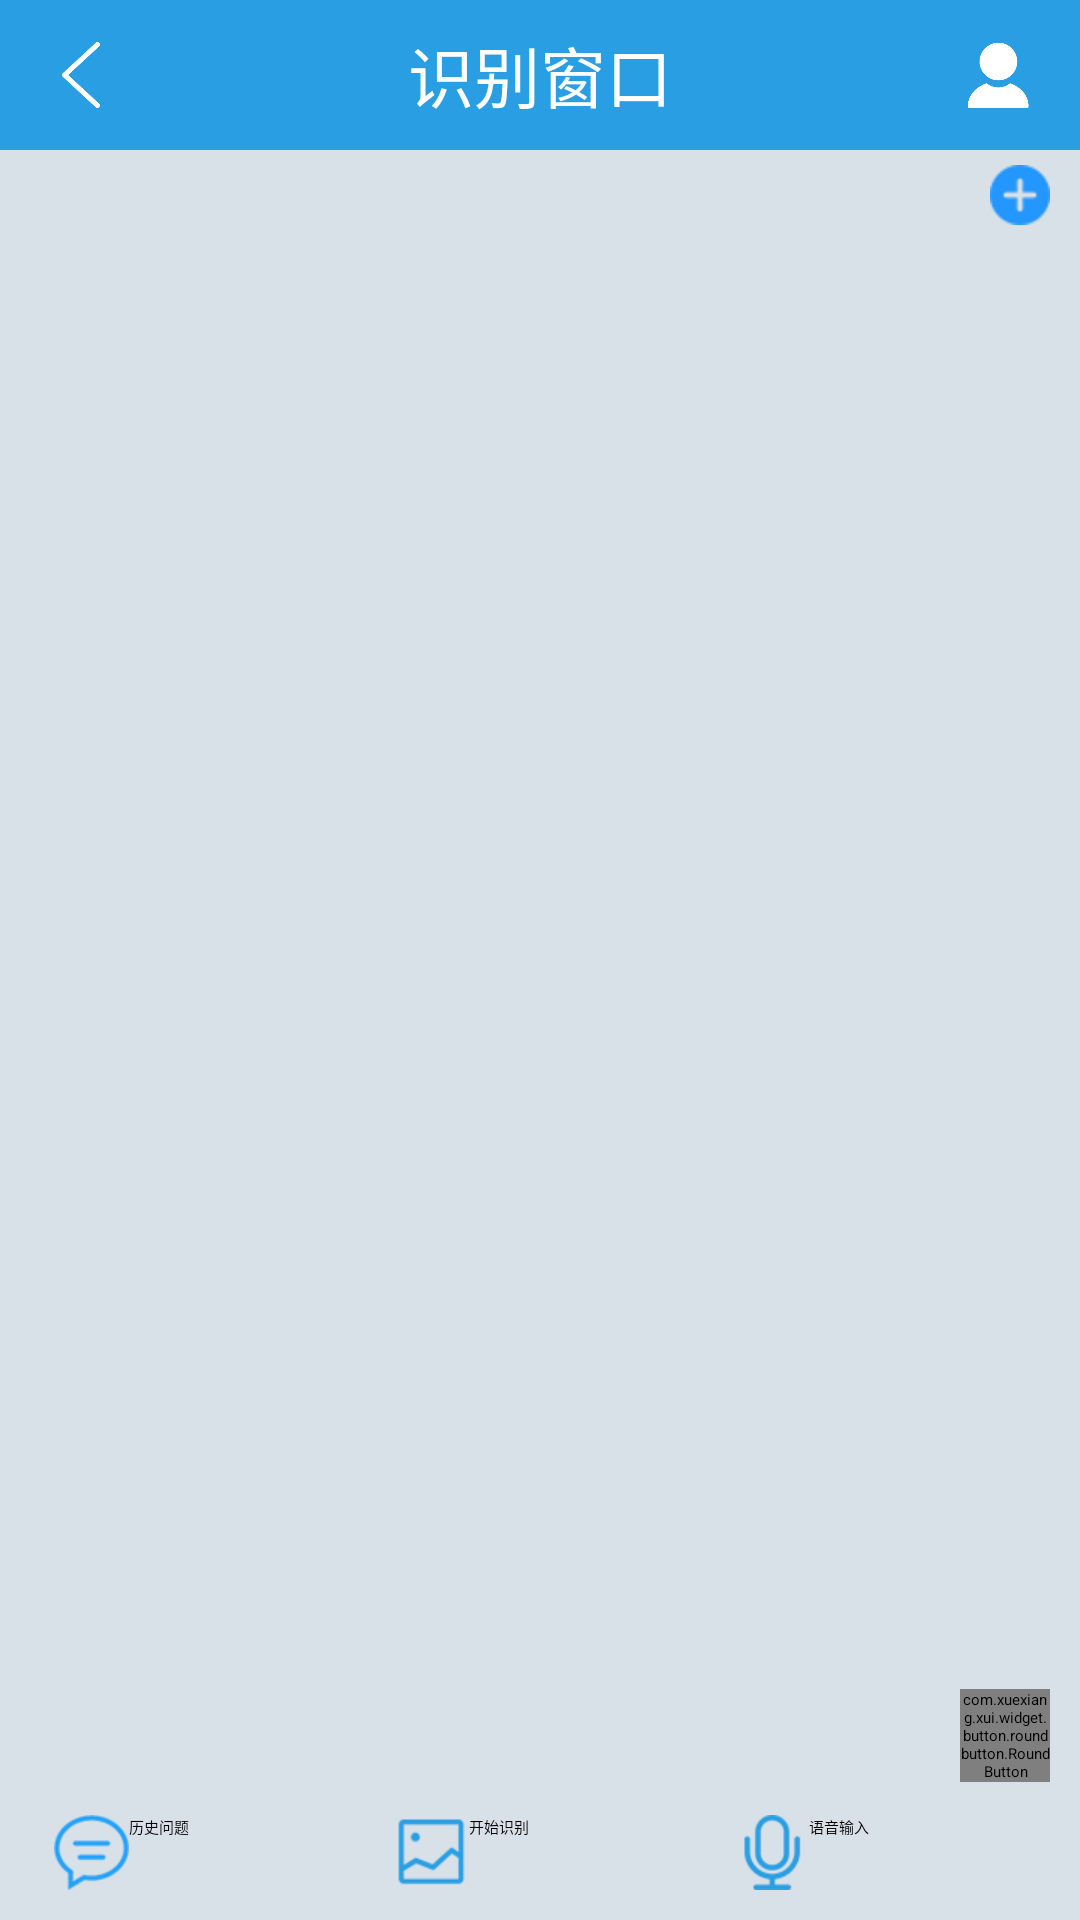

Point at icon controls on the screen. Image size 1080 x 1920, points as point (x, y).
add: point (1020, 195)
back: point (81, 75)
login: point (998, 75)
